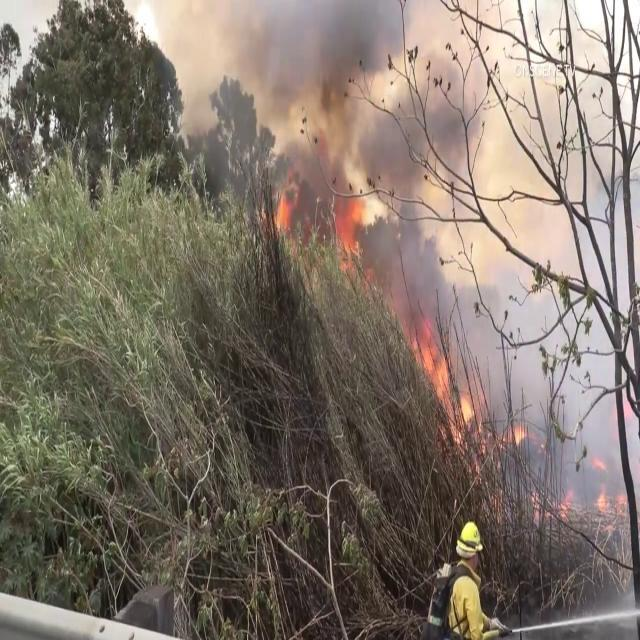Fire: (412, 304, 474, 446), (336, 172, 390, 272), (270, 173, 300, 246)
Smoke: (245, 0, 463, 234)
